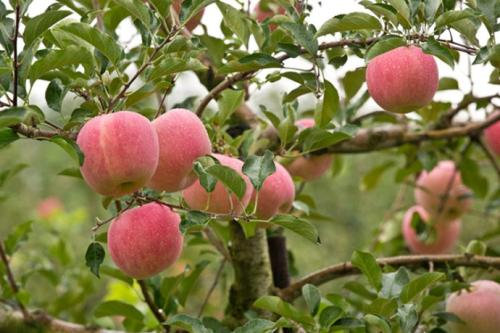apple: (76, 111, 158, 196), (107, 202, 185, 278)
obscured(0)_apple: (365, 45, 440, 113)
obscured(1)_apple: (139, 108, 211, 192)
obscured(2)_apple: (181, 151, 252, 217)
